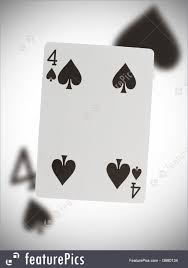four of spades: (33, 40, 155, 205)
